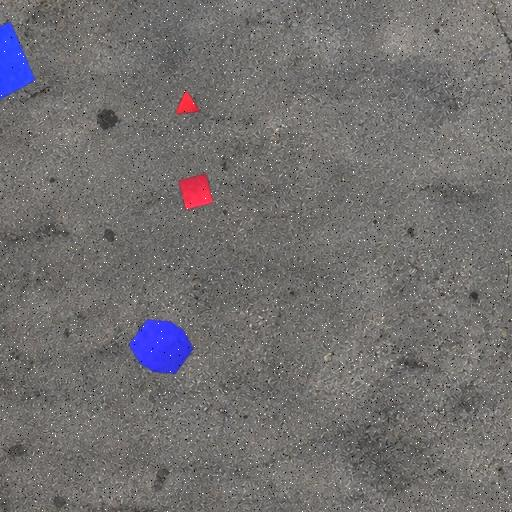BLUE_SQUARE: (0, 21, 36, 113)
RED_SQUARE: (178, 173, 214, 210)
